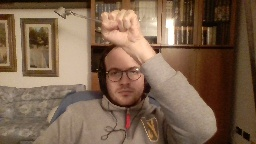Pugno: (97, 7, 144, 51)
